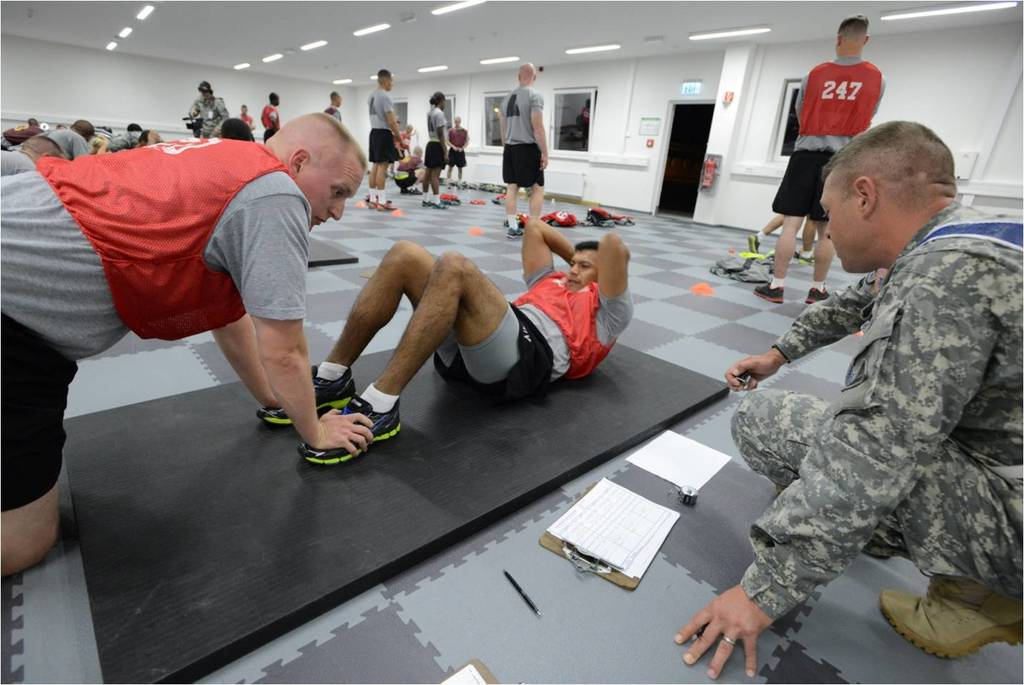Person: (0, 13, 1024, 679)
